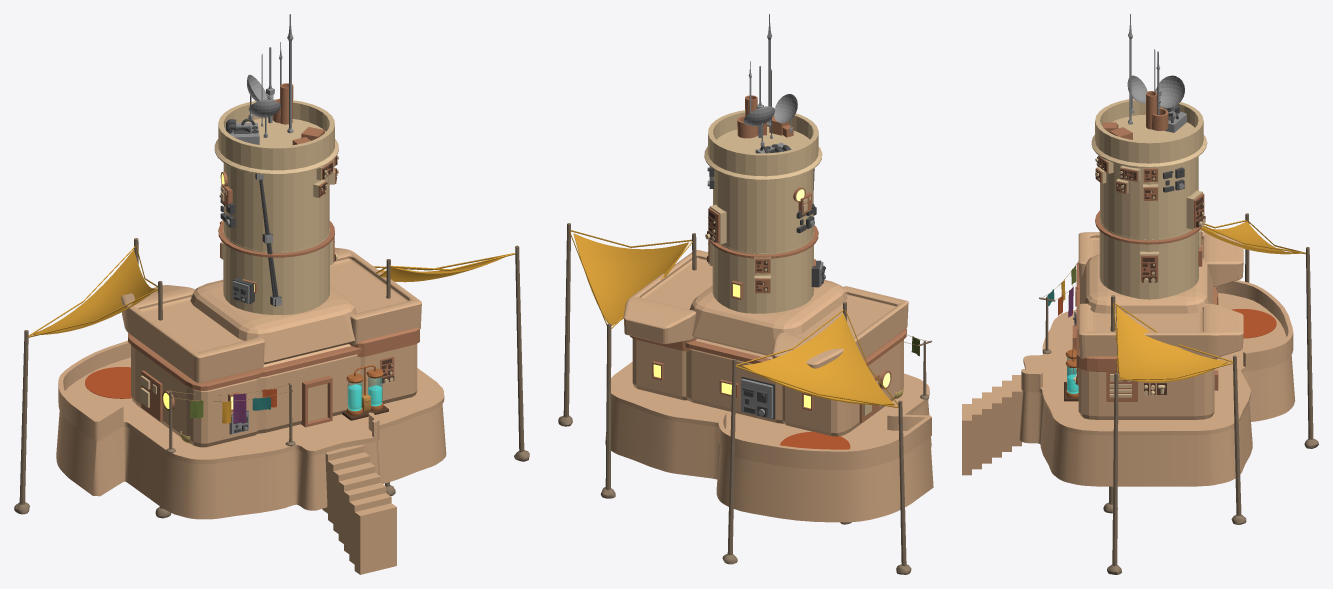
The model's file is nomad_building_b35.fbx.
The picture shows the model from 3 angles, left to right: view 1: azimuth 30°, elevation 25°; view 2: azimuth 150°, elevation 25°; view 3: azimuth 270°, elevation 25°; orthographic projection. The views are drawn at different scales.
Visible parts, largest first — view 1: NomadBuilding_B35; view 2: NomadBuilding_B35; view 3: NomadBuilding_B35.
Boxes of the visible parts, x1,y1,x2,y2 form: NomadBuilding_B35: (14,14,529,574); NomadBuilding_B35: (558,14,933,574); NomadBuilding_B35: (962,14,1318,574).
Bounding box in the file's own units: 2868 × 3057 × 2159.
